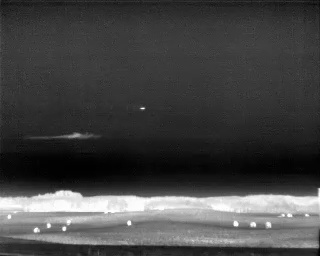BIRD: (138, 104, 147, 113)
